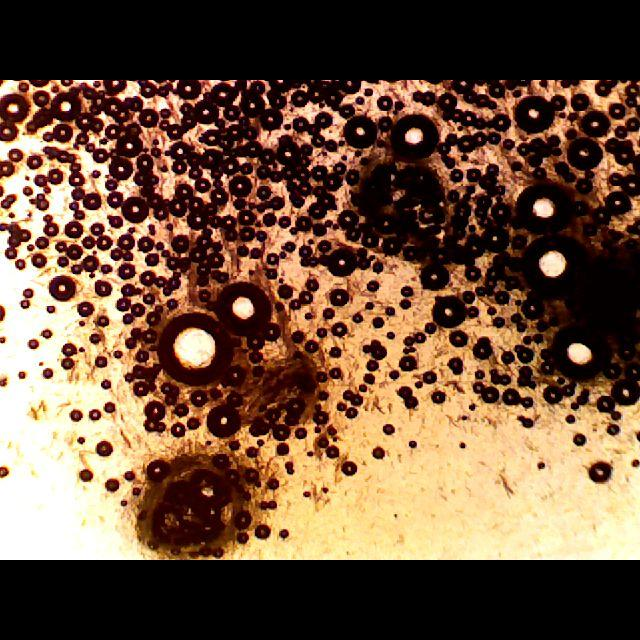microbeads: (149, 312, 235, 386), (514, 232, 594, 302), (506, 181, 578, 237), (214, 278, 274, 336), (555, 321, 611, 381), (390, 116, 438, 164), (514, 94, 556, 128), (341, 112, 377, 148), (428, 298, 468, 328), (418, 264, 452, 294), (46, 276, 78, 302)
